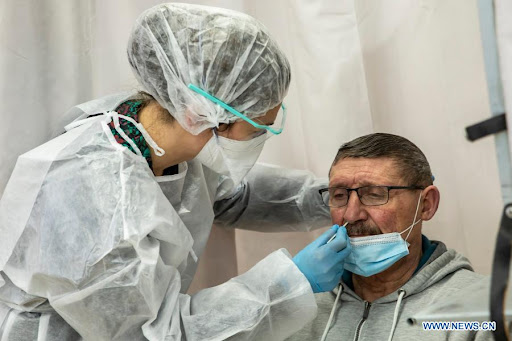with_incorrect_mask: (330, 164, 399, 262)
with_mask: (193, 98, 265, 170)
